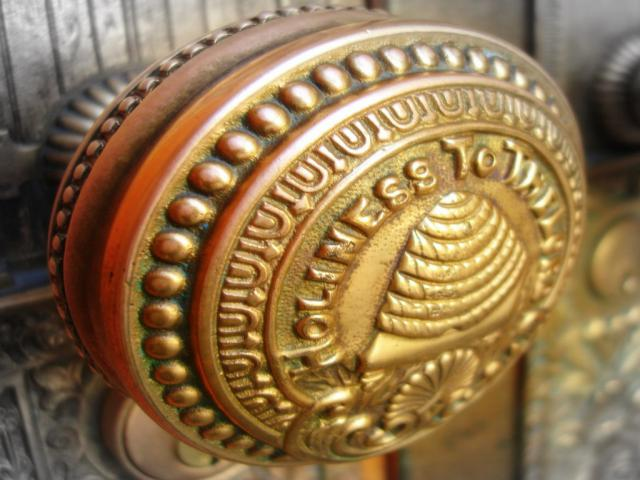Door-handle: (24, 4, 587, 466)
